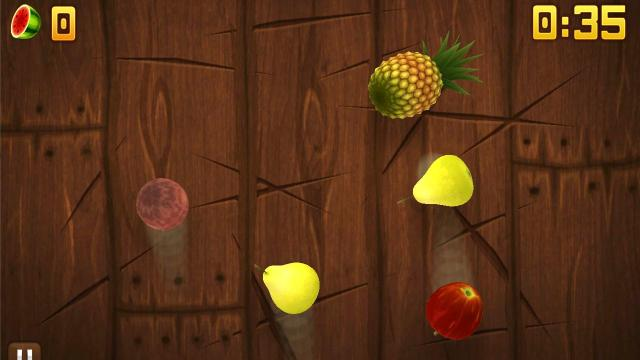fruit: (371, 29, 485, 119), (426, 280, 484, 340), (411, 154, 474, 207), (135, 176, 189, 231), (262, 262, 318, 314)
ignore: (9, 3, 43, 41)
